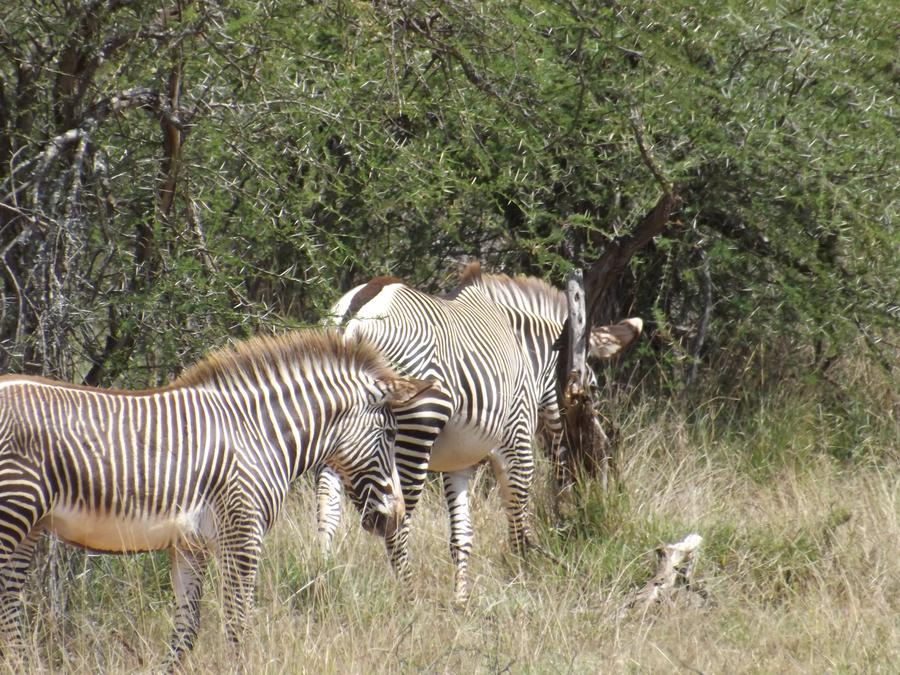zebra_grevys: (351, 263, 538, 462)
